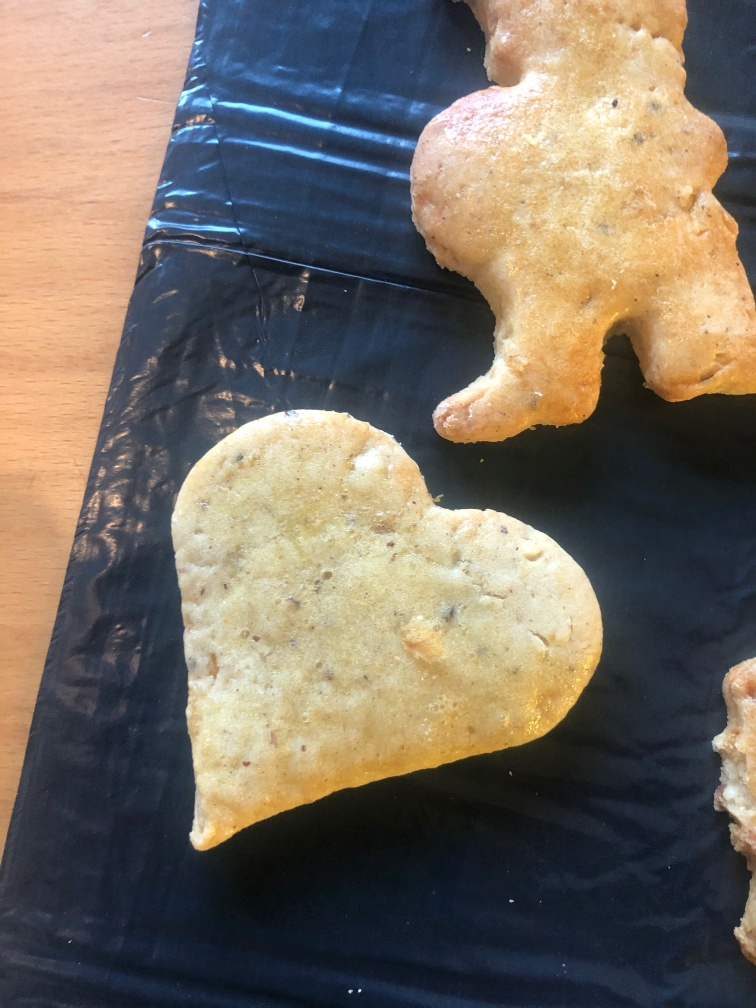heart: (165, 401, 601, 861)
santa claus: (402, 6, 750, 451)
